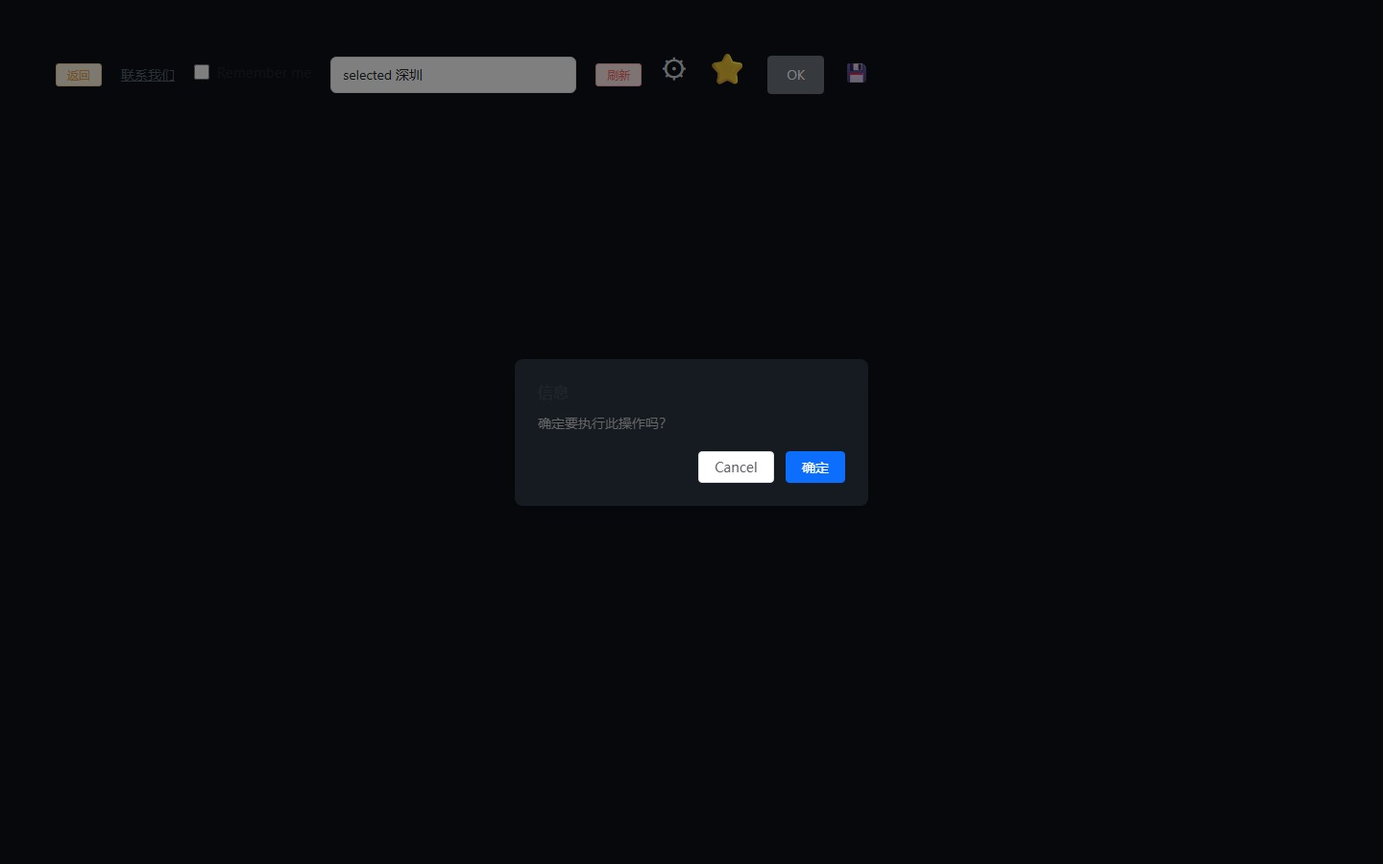button: (698, 451, 774, 482), (768, 56, 824, 94), (786, 451, 845, 482), (56, 63, 102, 86), (596, 63, 642, 86)
checkbox: (194, 64, 209, 80)
icon: (217, 63, 311, 81), (706, 52, 748, 83), (661, 52, 687, 83), (843, 62, 870, 82)
link: (121, 65, 175, 84)
modal: (0, 0, 1383, 864)
radio: (194, 63, 311, 81)
select: (331, 56, 577, 93)
